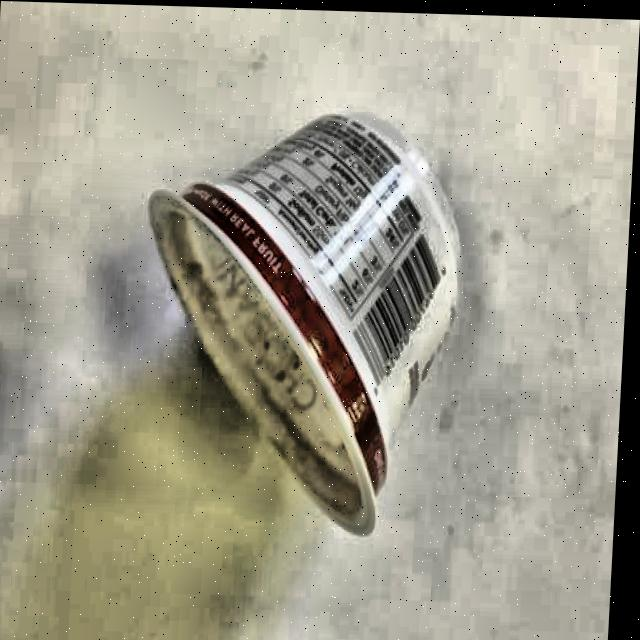plastic: (132, 105, 470, 539)
